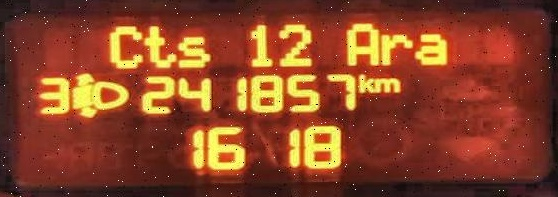1: (242, 21, 275, 70), (281, 124, 300, 169), (186, 125, 203, 170), (229, 73, 248, 112)
2: (274, 21, 314, 68), (139, 74, 174, 115)
3: (35, 74, 72, 115)
4: (175, 75, 213, 114)
5: (285, 71, 320, 113)
6: (205, 122, 248, 171)
7: (324, 71, 356, 111)
8: (299, 123, 343, 171), (249, 72, 284, 113)
X: (338, 20, 378, 66), (105, 23, 142, 70), (141, 23, 174, 70), (175, 32, 212, 69), (412, 31, 448, 66), (380, 31, 412, 67), (374, 74, 399, 94), (356, 71, 375, 94)
